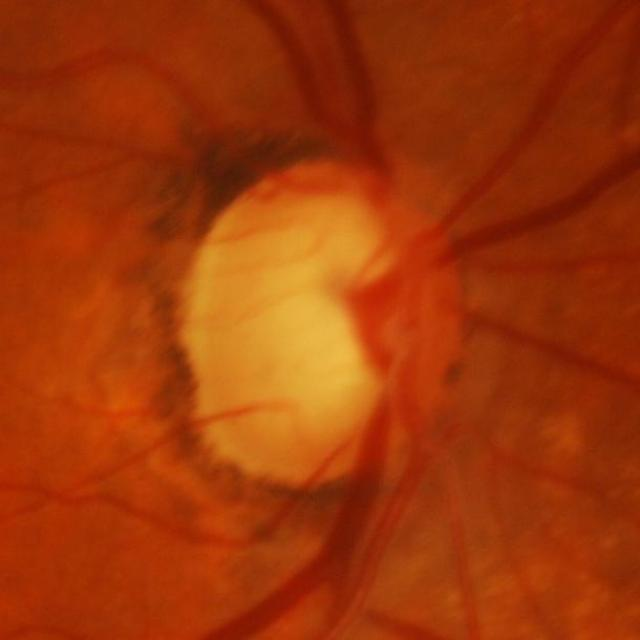OC: (258, 207, 408, 415)
OD: (178, 152, 469, 490)
